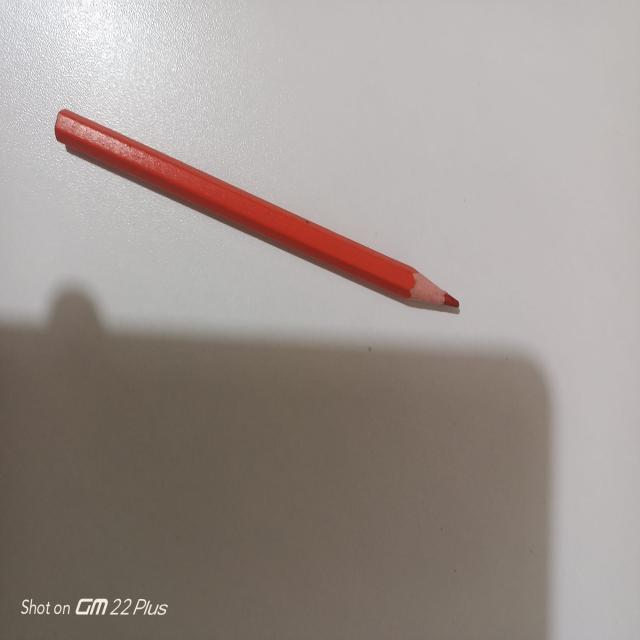pencil: (49, 97, 471, 336)
